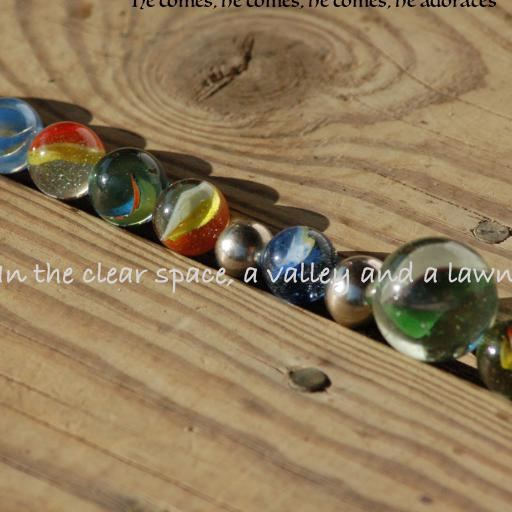Bradley Hand: (0, 261, 512, 295)
Luminari: (131, 0, 497, 10)
